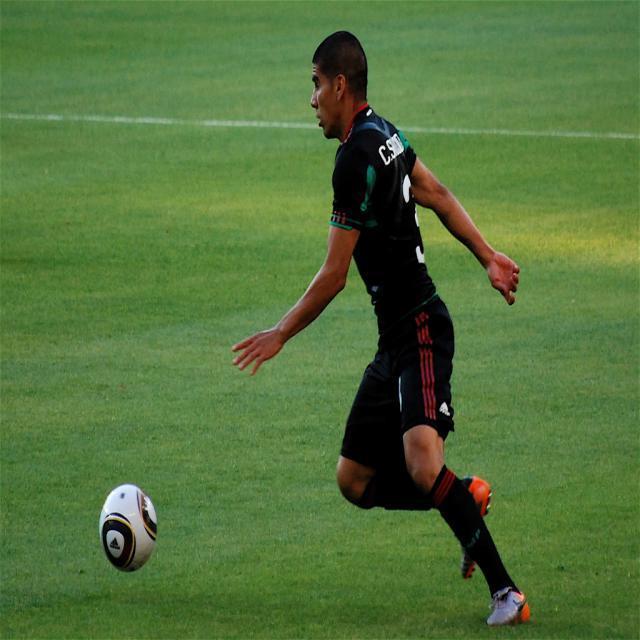football: (70, 476, 196, 583)
